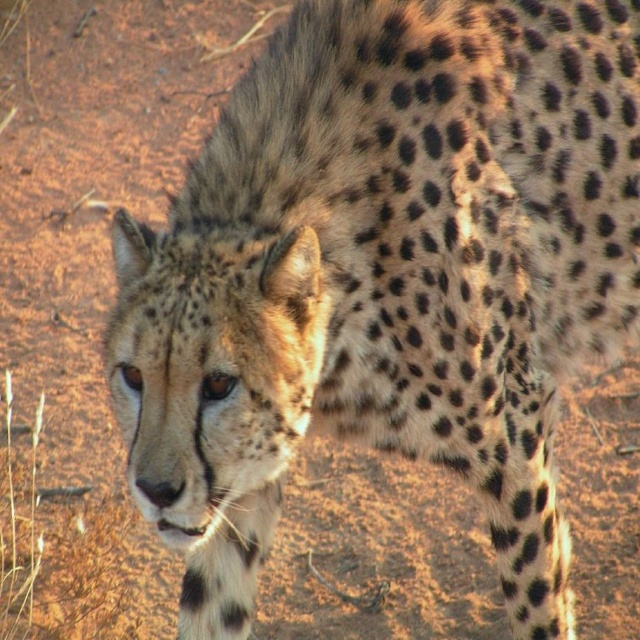Cheetah: (100, 0, 640, 639)
